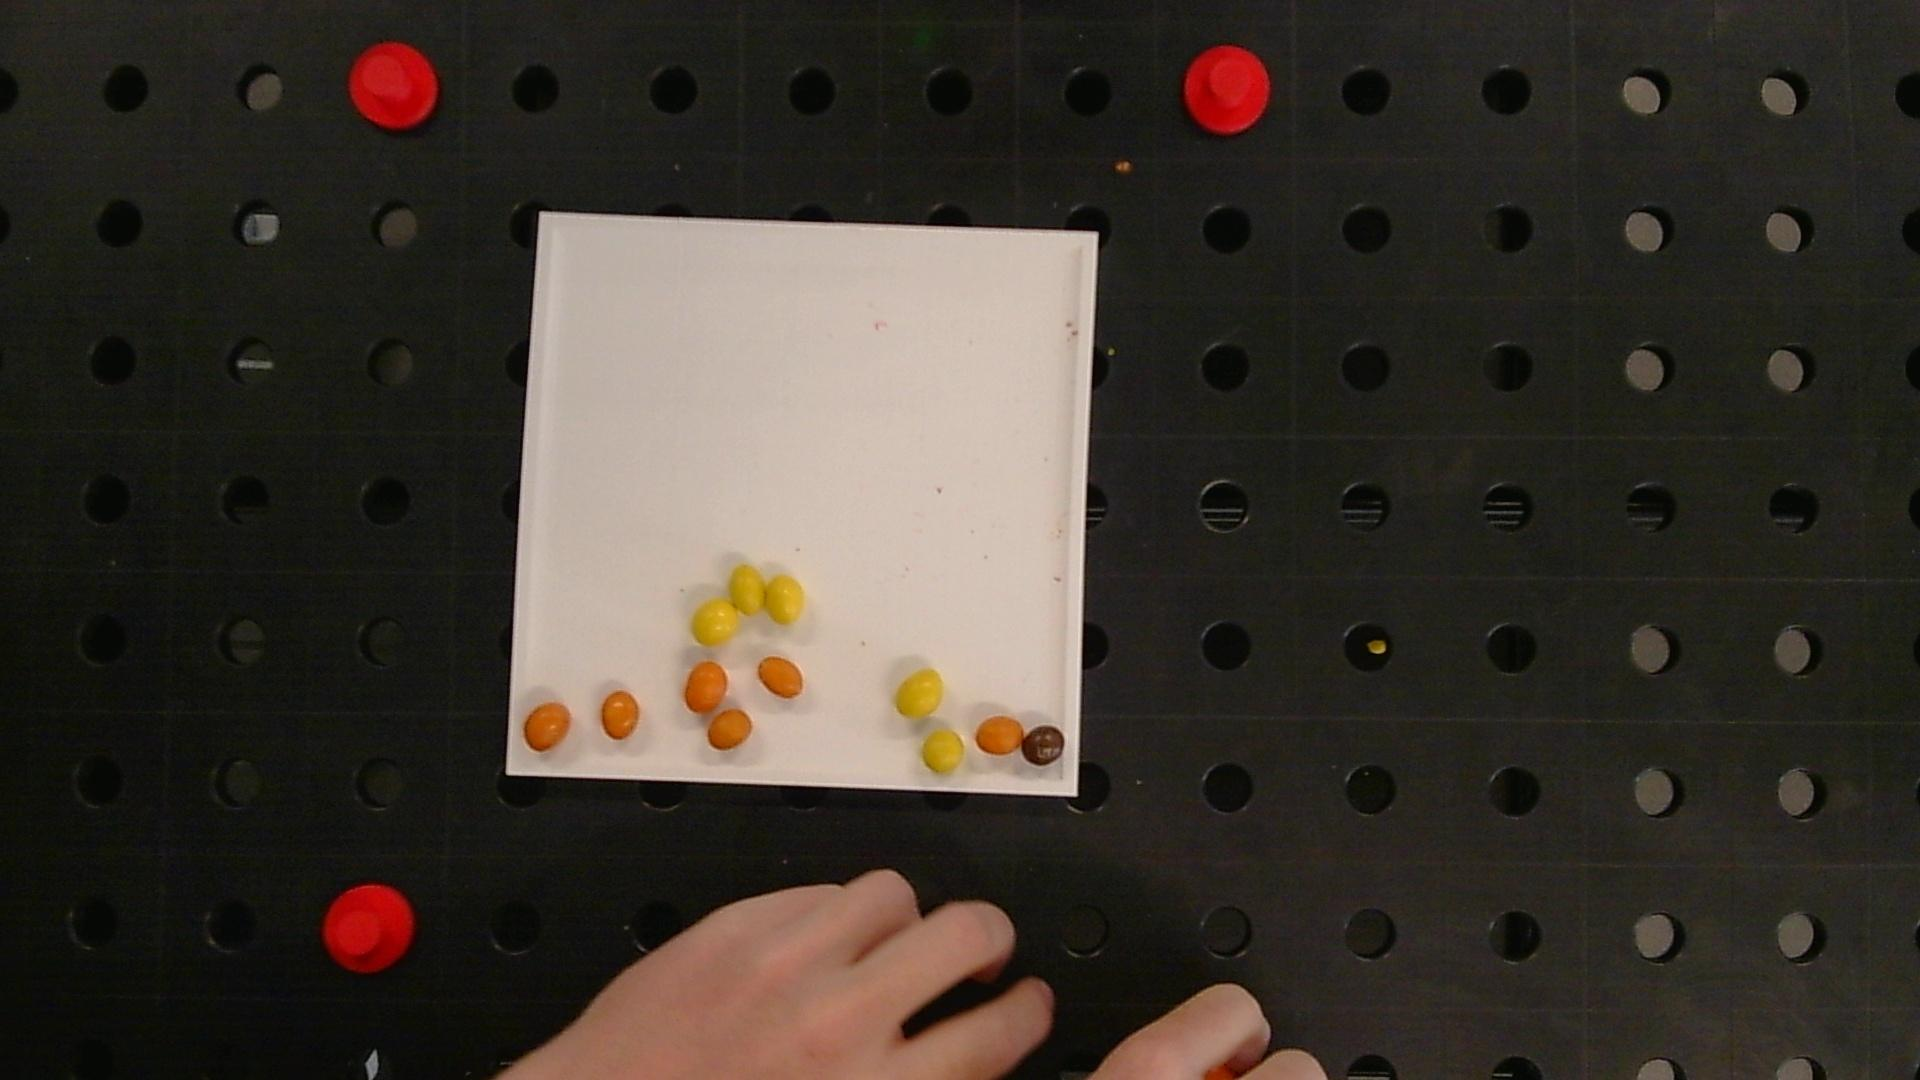brown: (1021, 725, 1065, 765)
orange: (524, 702, 571, 750), (686, 661, 727, 712), (975, 715, 1025, 754), (758, 655, 803, 698), (601, 691, 640, 738), (708, 709, 752, 749)
yellow: (895, 669, 944, 719), (692, 599, 738, 645), (765, 575, 804, 624), (922, 731, 964, 773), (729, 564, 765, 613)
